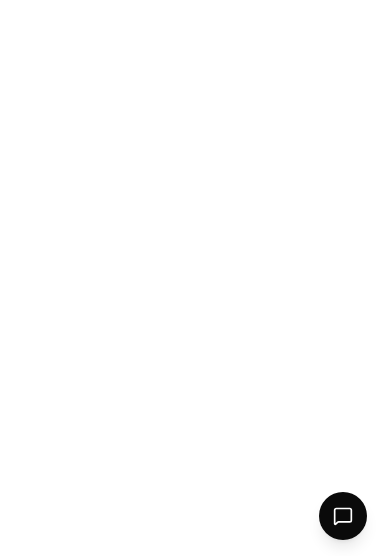
Scenario: FloatingChat › opens chat panel when floating button is clicked
Click the button named "AI 쇼핑 큐레이터 열기" at [343, 516], box [319,492,367,540]
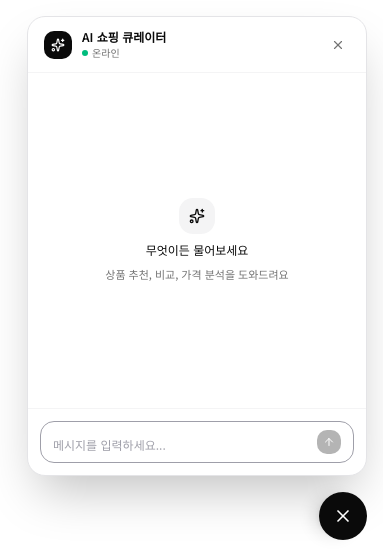
Expected: the text "AI 쇼핑 큐레이터" is shown, [82,29,166,45]
